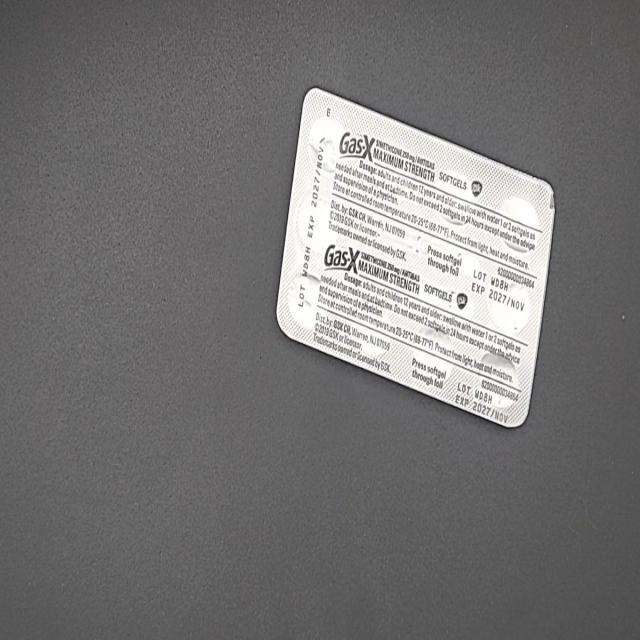no defect: (10, 14, 31, 54)
